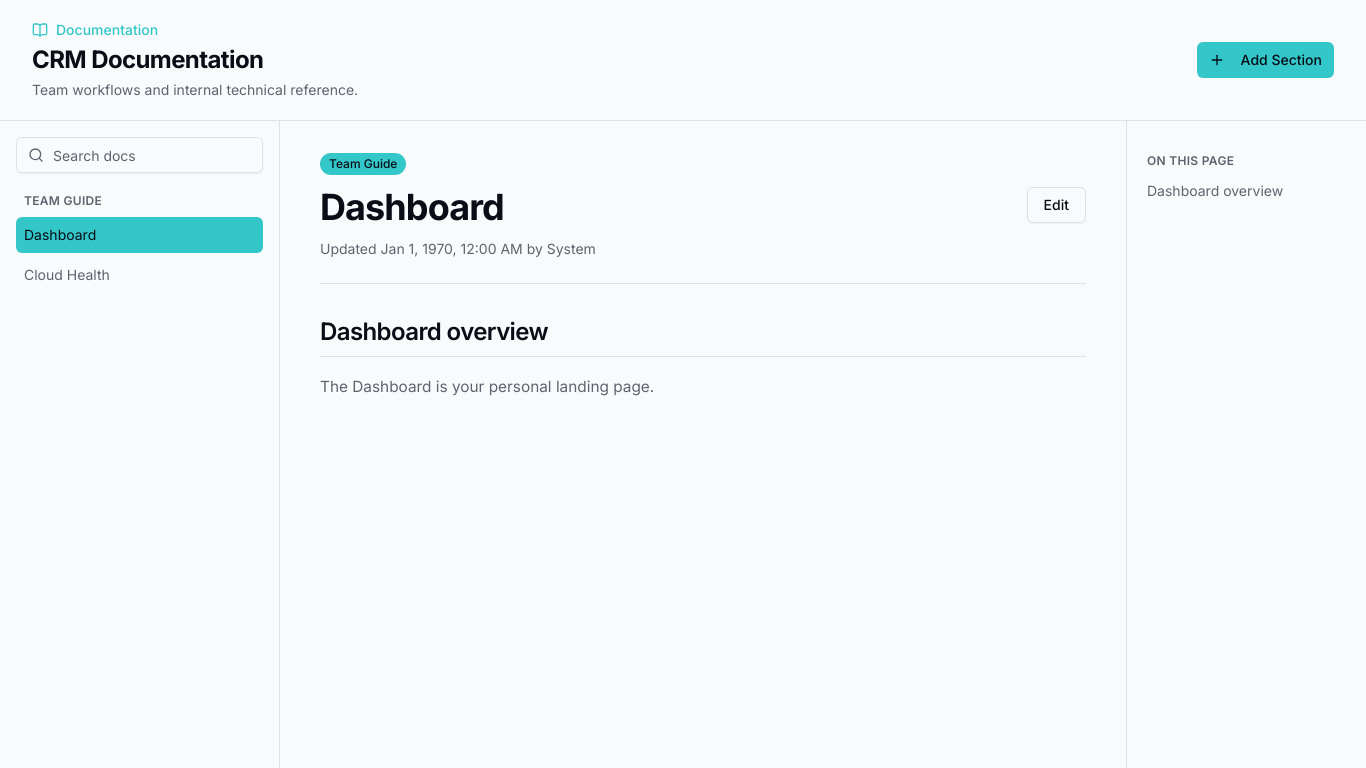
Test: DocumentationPage routing › updates the URL when a sidebar article is clicked
Step 1. Click the button "Cloud Health" → (140, 275), box [16,257,263,293]
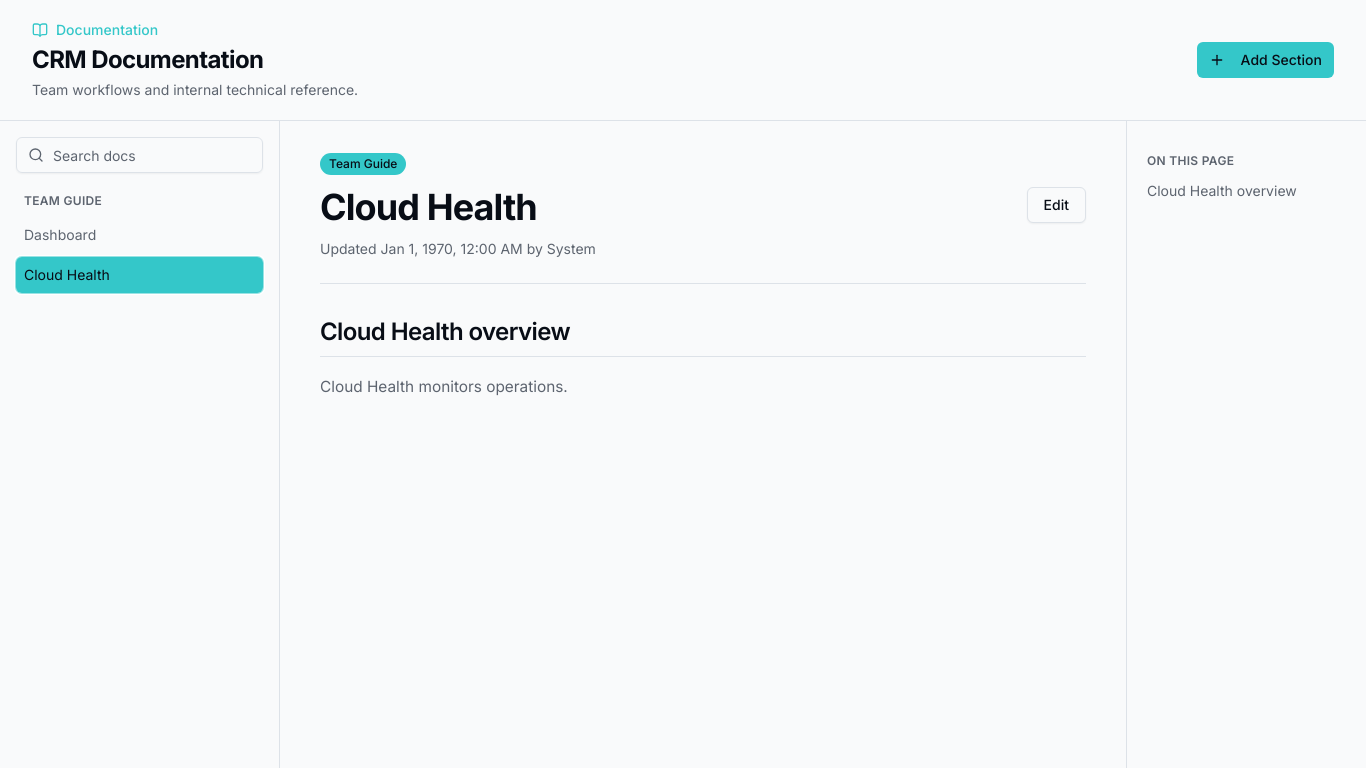
Expected: the heading "Cloud Health" is shown, [320,185,537,229]
